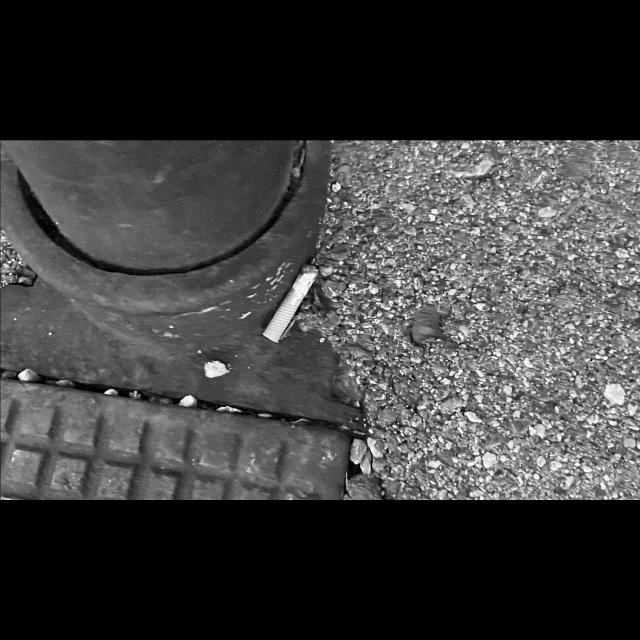cigarette: (262, 263, 319, 344)
